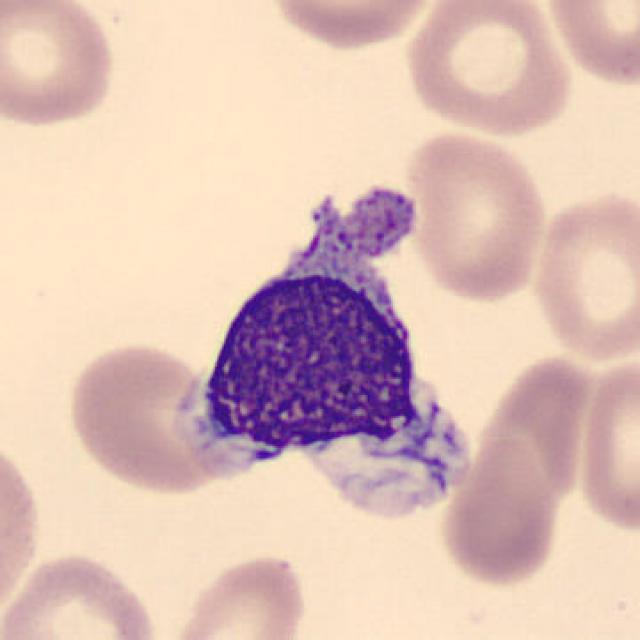Basophil: (167, 169, 480, 515)
Monocyte: (165, 171, 489, 525)
RBC: (61, 337, 250, 497), (402, 127, 549, 307), (400, 0, 578, 139), (528, 183, 638, 365), (0, 0, 121, 132), (0, 548, 164, 640), (165, 550, 313, 640), (572, 351, 640, 538), (0, 428, 46, 635), (263, 0, 441, 53), (538, 0, 640, 90)
